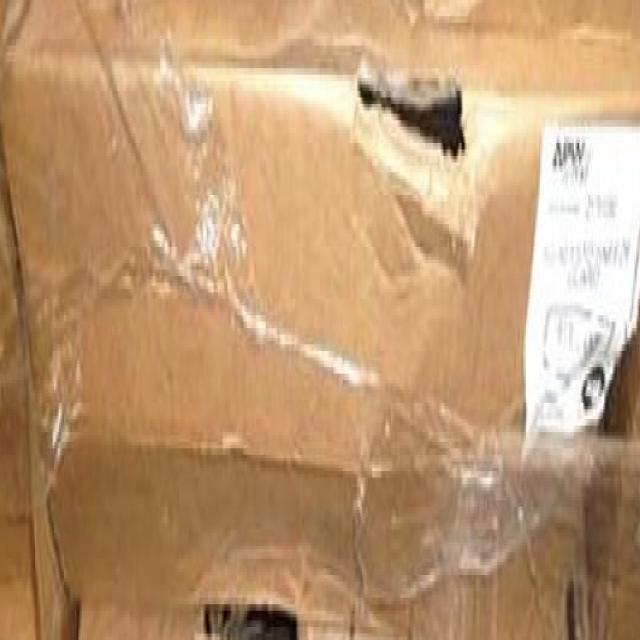hole: (348, 41, 472, 203)
